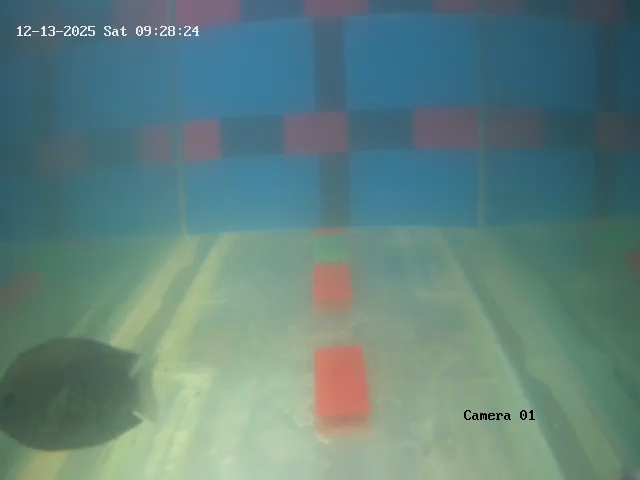fish: (5, 335, 153, 448)
